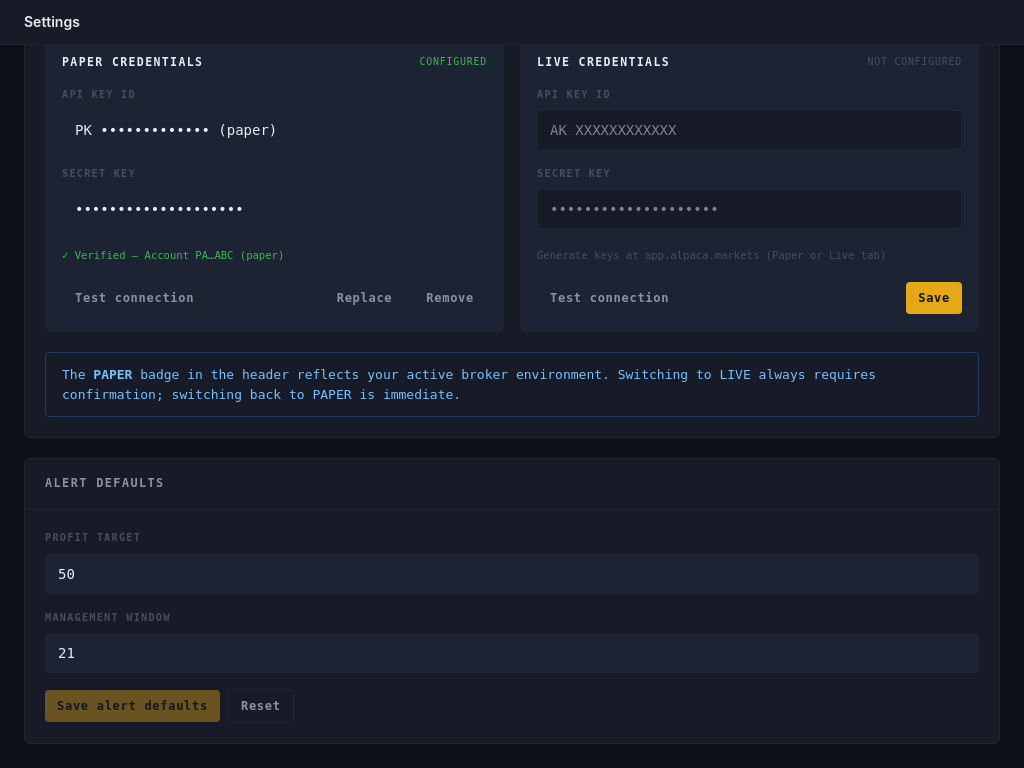
Test: Reset restores the loaded alert defaults and clears the saved banner
(page scrolled)
Replace the text in the number field labelled "Profit Target" with "40" at [512, 574], box x1=45 y1=554 x2=979 y2=594
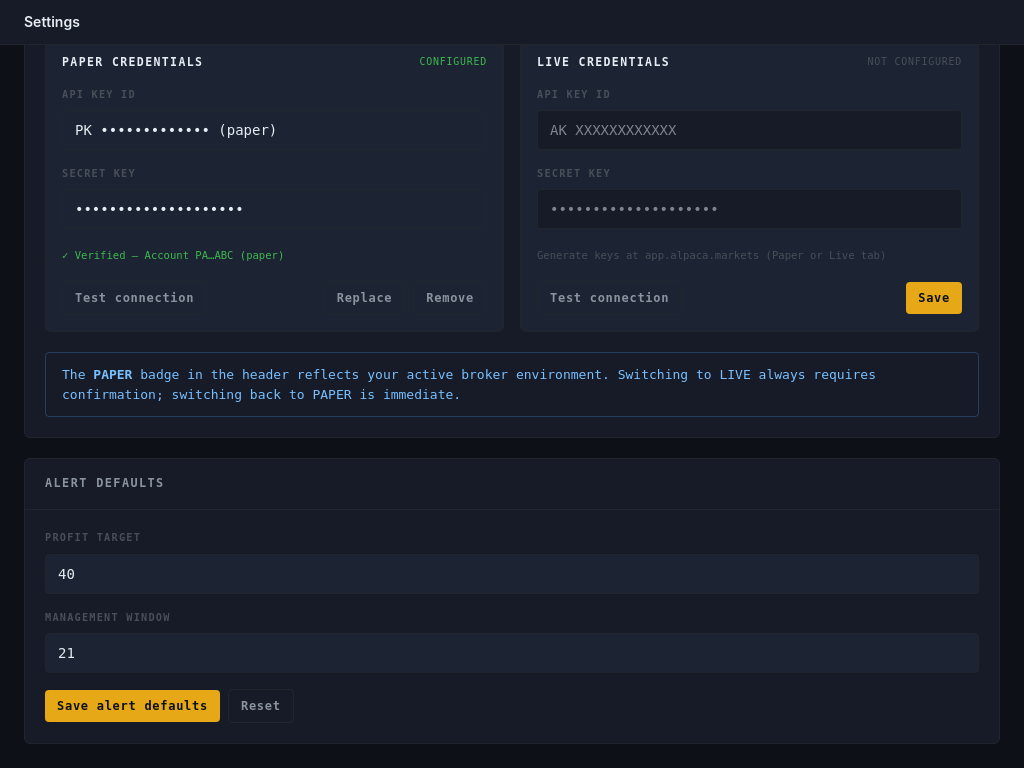
Now the button "Save alert defaults" is enabled
Click the button "Save alert defaults" at [132, 706], box x1=45 y1=690 x2=220 y2=722
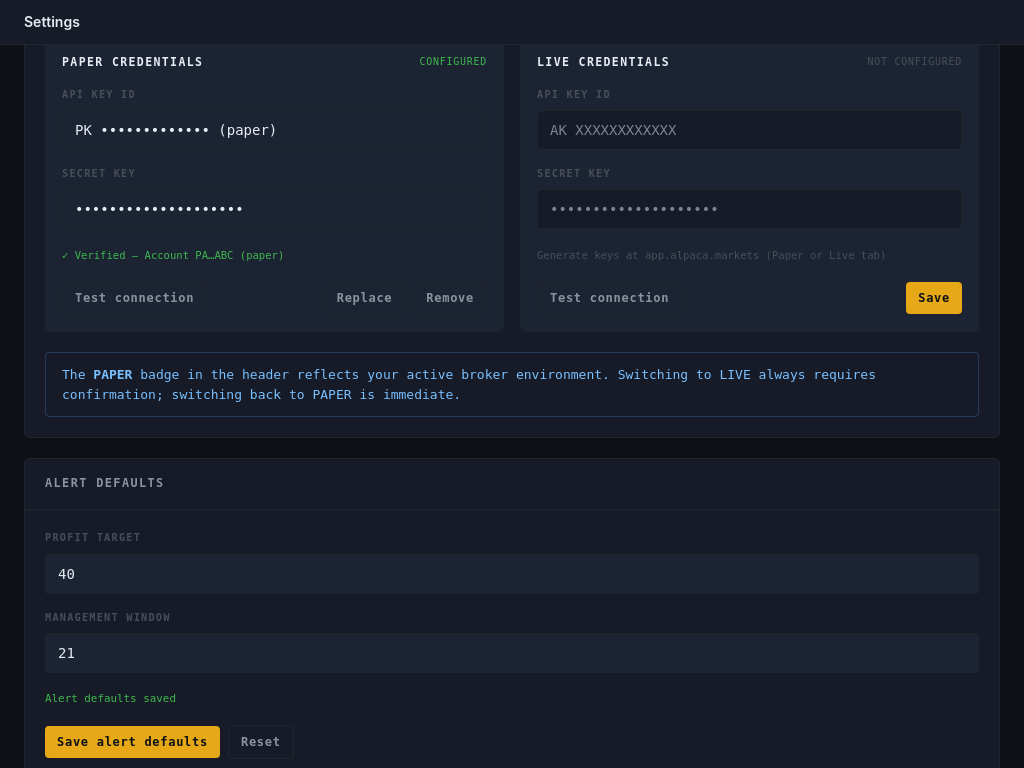
Now the text "Alert defaults saved" is shown, box x1=45 y1=692 x2=176 y2=705
Replace the text in the number field labelled "Profit Target" with "35" at [512, 574], box x1=45 y1=554 x2=979 y2=594
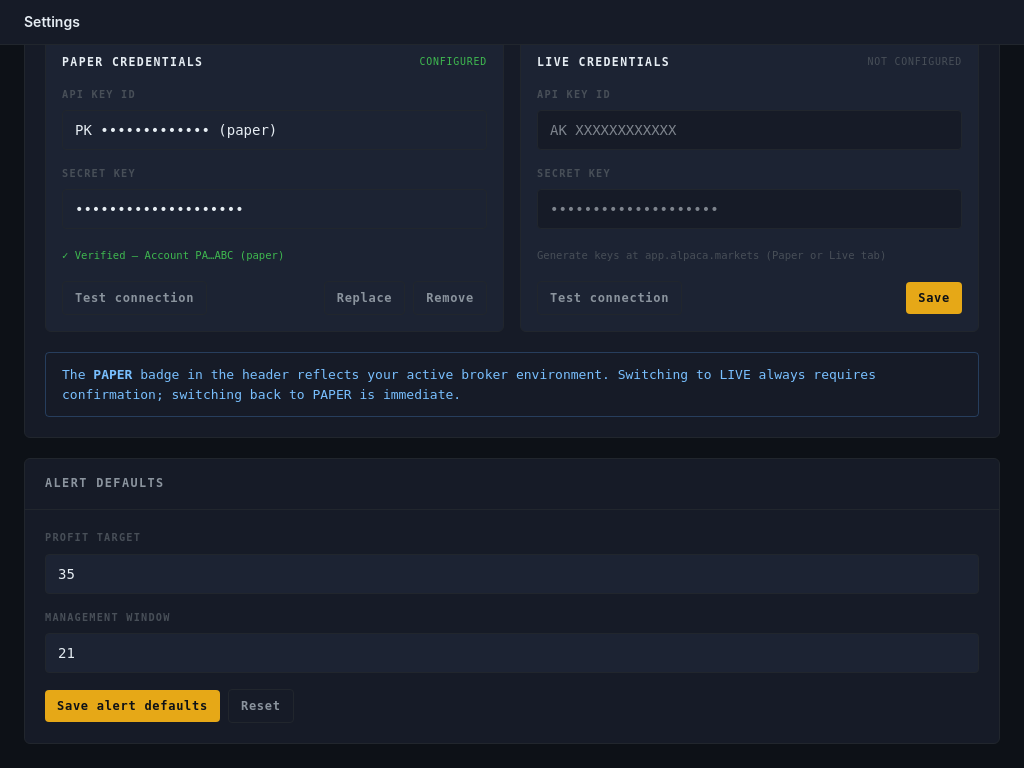
Click the button "Reset" at [261, 706], box x1=228 y1=689 x2=294 y2=723
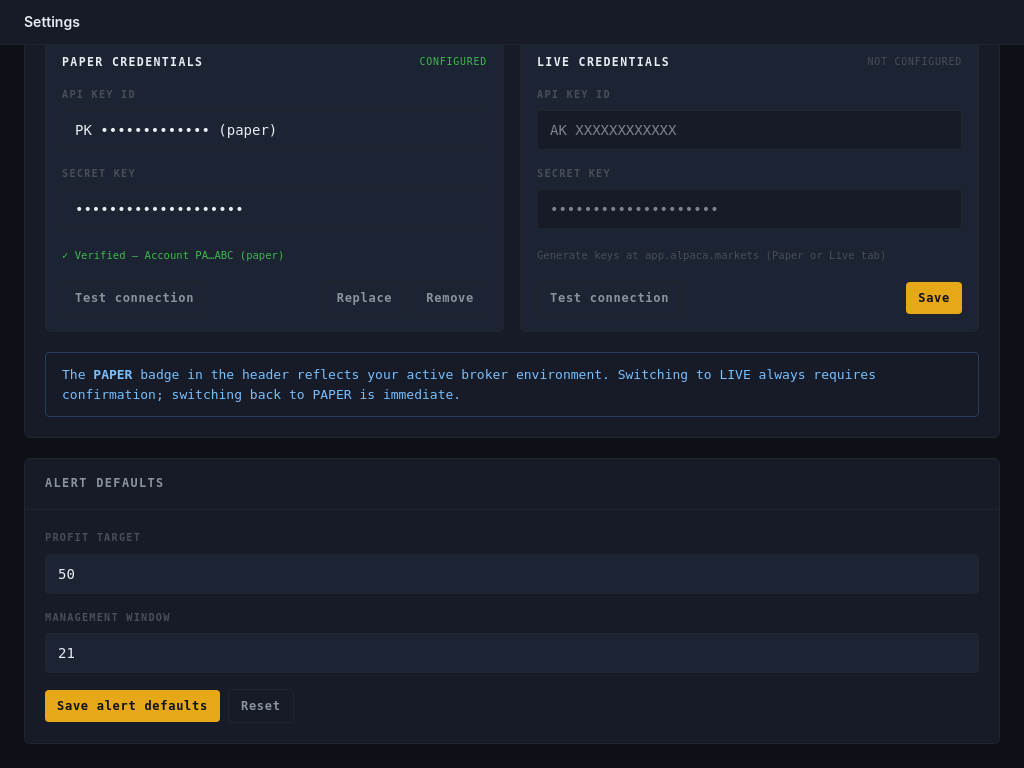
Expected: the text "Alert defaults saved" is not shown
Now the number field labelled "Profit Target" holds "50", box x1=45 y1=554 x2=979 y2=594
